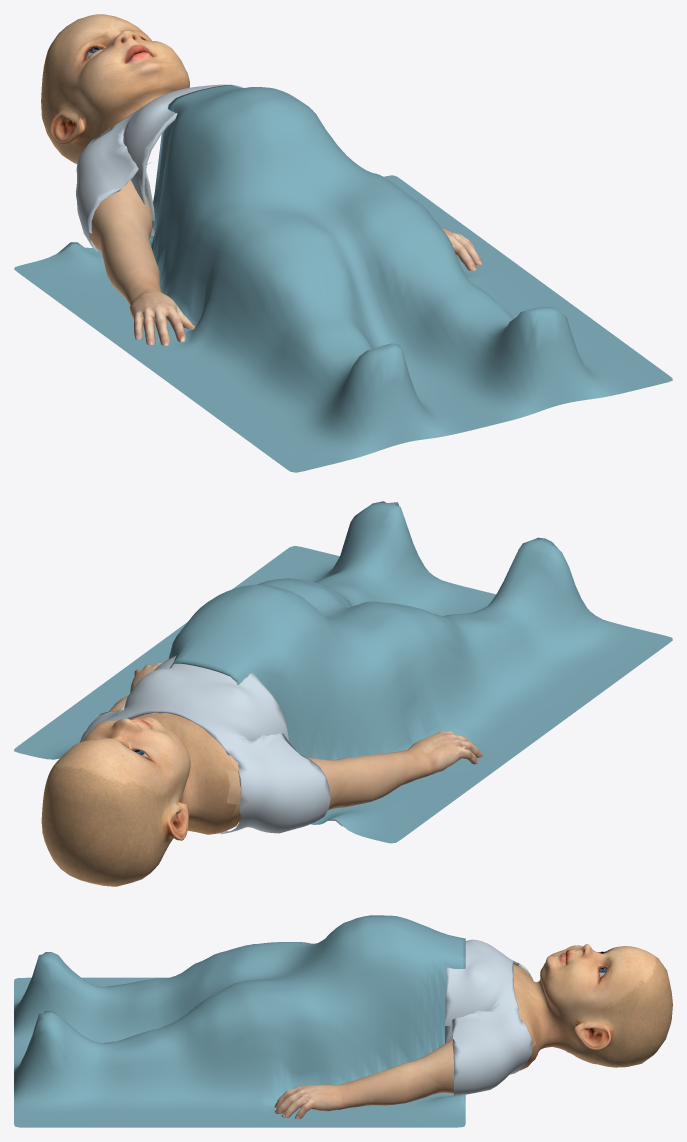
3 renders of one model, top to bottom at view 1: azimuth 30°, elevation 25°; view 2: azimuth 150°, elevation 25°; view 3: azimuth 270°, elevation 25°, orthographic. The views are drawn at different scales.
Visible parts, largest first — view 1: sheet, body, arms, gown; view 2: sheet, body, gown, arms; view 3: sheet, body, gown, arms.
Part boxes in pixels (left/top/right/bottom): sheet: left=14, top=85, right=672, bottom=472; body: left=41, top=14, right=189, bottom=164; arms: left=89, top=180, right=482, bottom=345; gown: left=76, top=84, right=243, bottom=251; sheet: left=14, top=501, right=672, bottom=843; body: left=41, top=713, right=240, bottom=886; gown: left=79, top=655, right=330, bottom=834; arms: left=109, top=662, right=483, bottom=816; sheet: left=14, top=915, right=465, bottom=1127; body: left=513, top=944, right=672, bottom=1070; gown: left=445, top=939, right=532, bottom=1095; arms: left=274, top=970, right=535, bottom=1119.
Size of the model in its own units: 0.306 by 0.1282 by 0.5692.
Materials: 6 (4 with a texture image).
